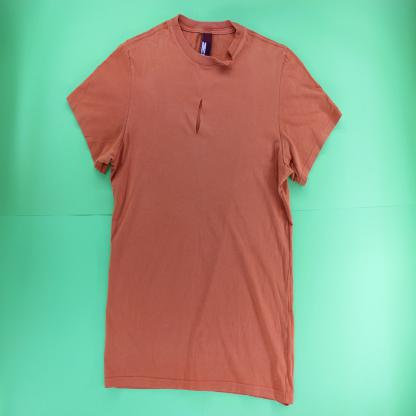hole: (195, 97, 204, 138), (221, 47, 235, 70)
